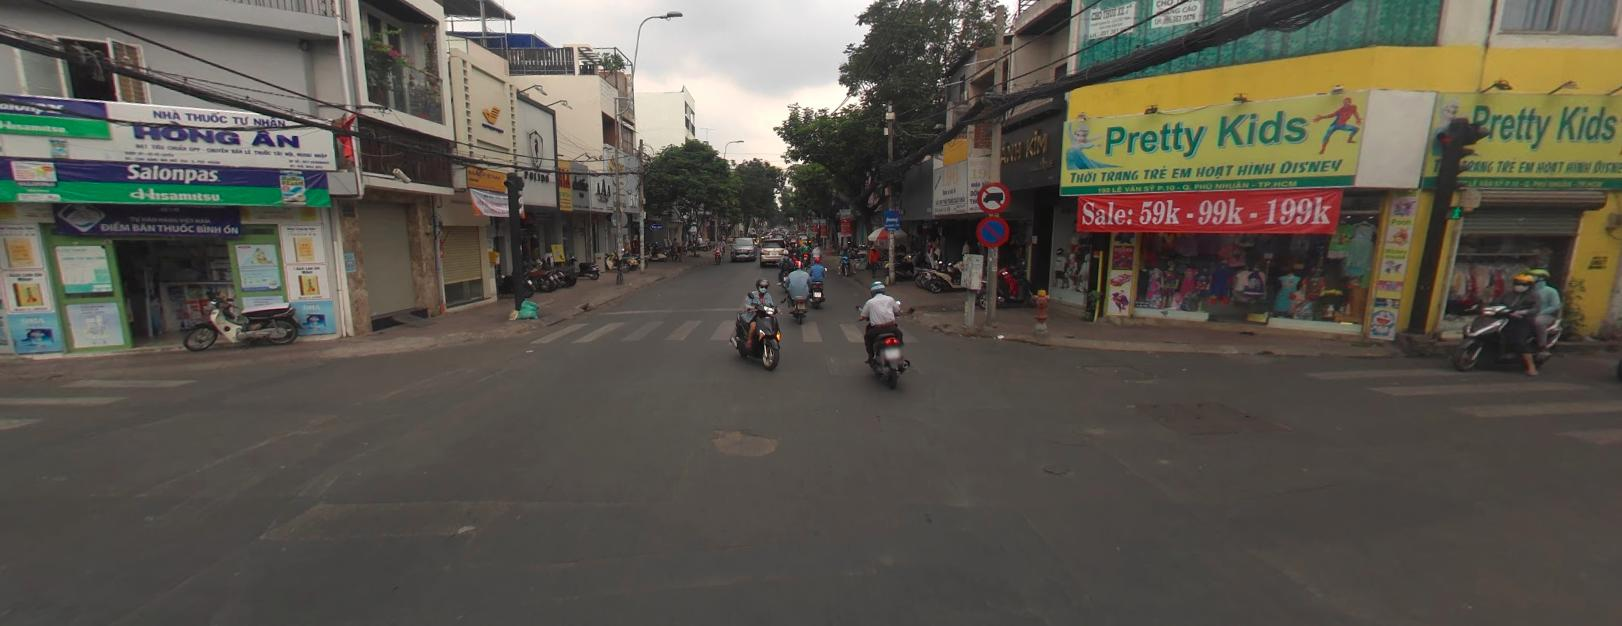Cam con lai: (977, 181, 1011, 211)
Cam dung va do: (979, 216, 1008, 243)
